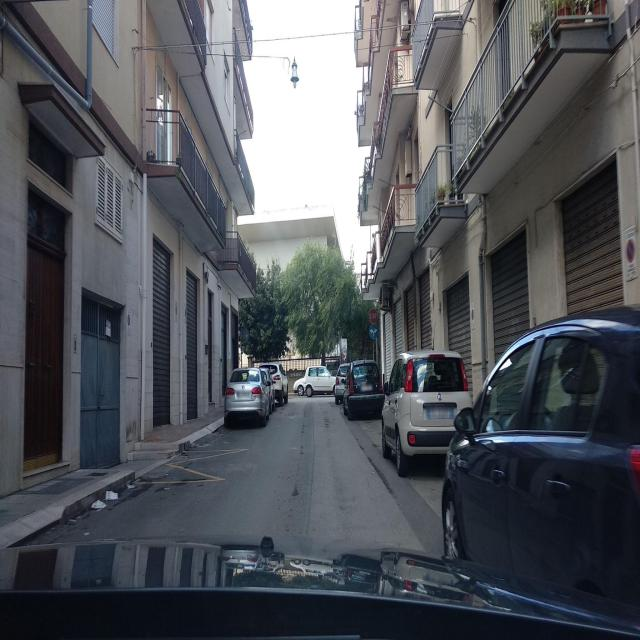car: (441, 312, 640, 605), (380, 348, 472, 477), (223, 366, 270, 427), (343, 357, 384, 420), (256, 361, 288, 407), (294, 364, 336, 396), (256, 366, 277, 411), (334, 362, 350, 404)
